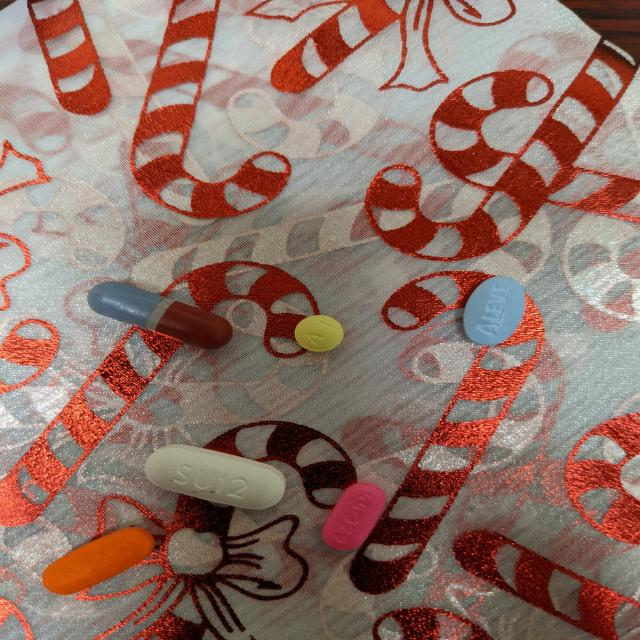non-organic waste: (86, 280, 234, 351), (143, 442, 288, 512), (40, 526, 156, 596), (319, 481, 387, 552), (460, 276, 527, 348), (292, 314, 344, 353)
